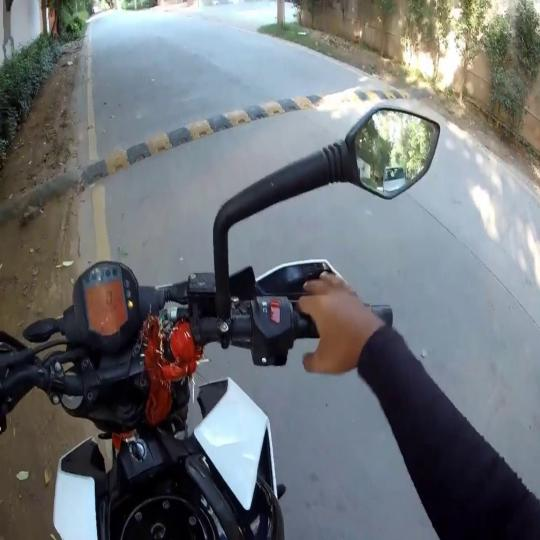Speed Bump: (80, 86, 418, 190)
